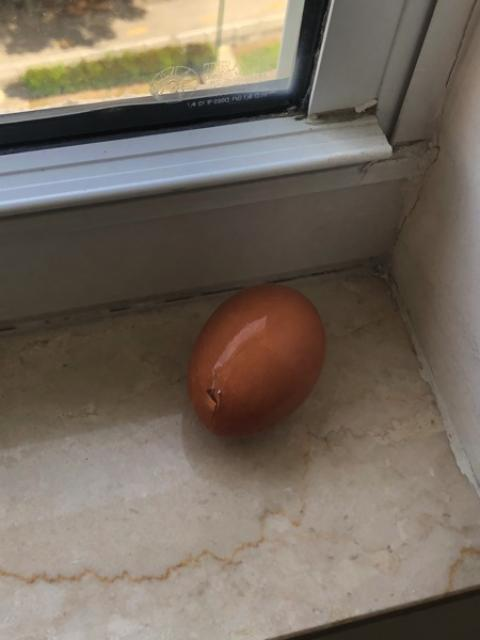Roto: (186, 282, 326, 438)
